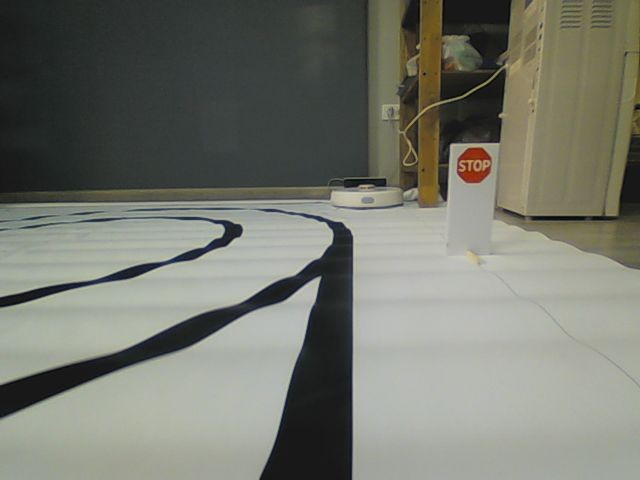Stop: (456, 148, 493, 184)
